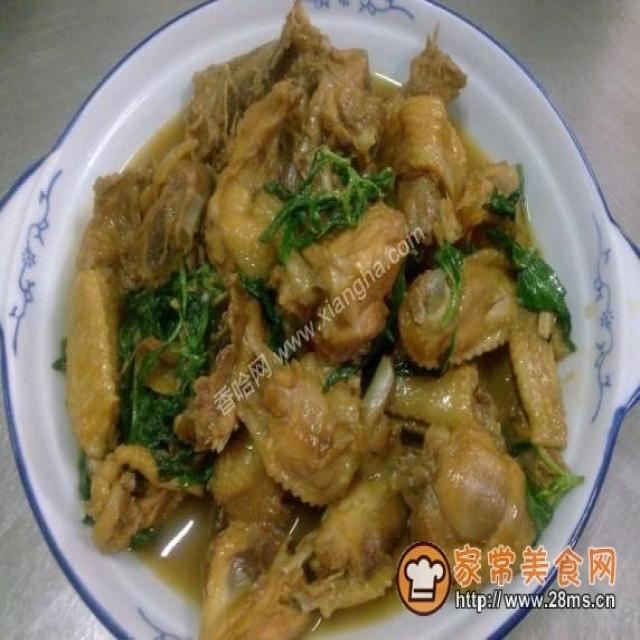鸡肉料理 含炸鸡: (44, 31, 592, 621)
